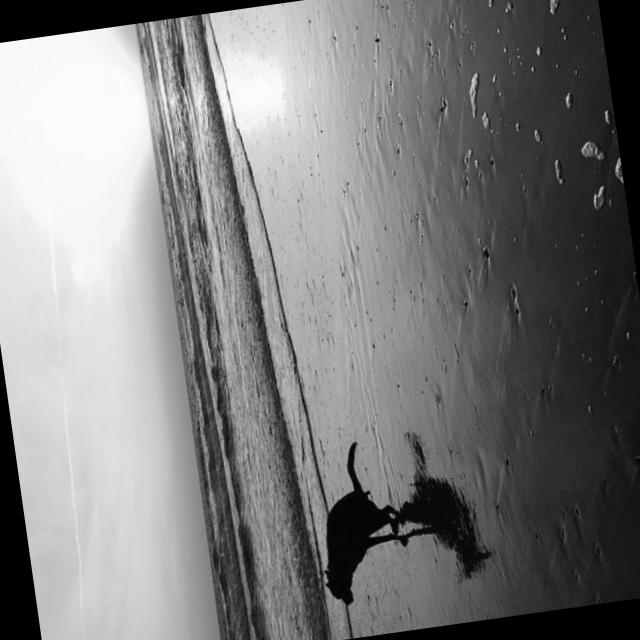squatting: (298, 431, 428, 624)
